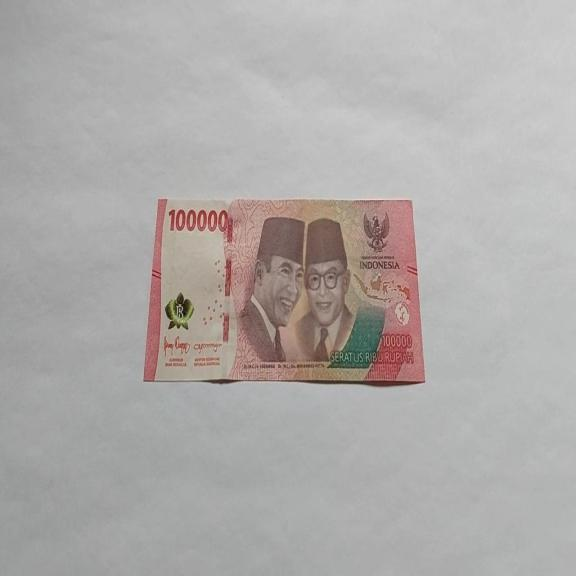Kertas: (143, 195, 426, 386), (168, 206, 230, 234)
